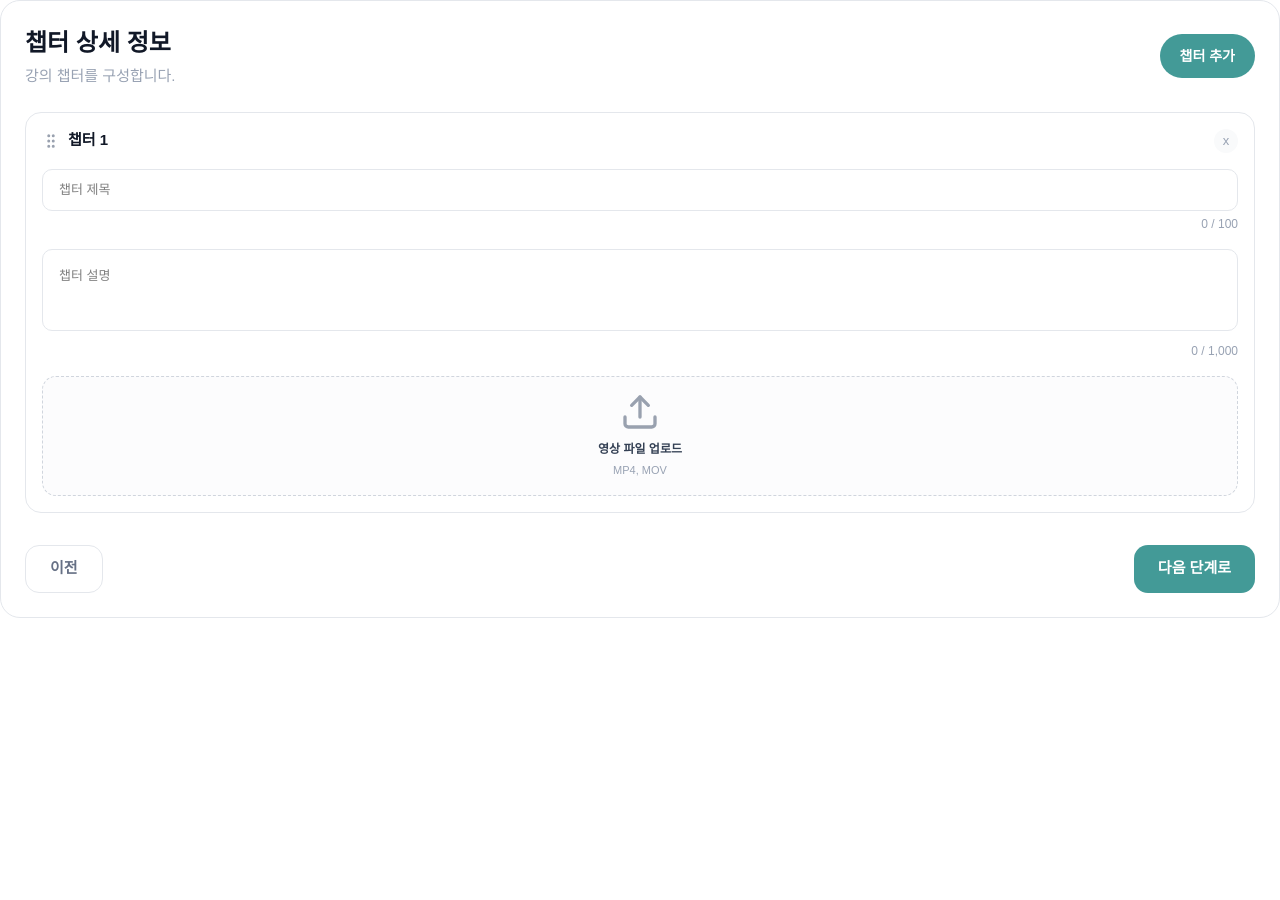
it: LectureChapterForm 컴포넌트 테스트 › 챕터를 추가하고 삭제하면 챕터 번호를 다시 정렬한다
What coordinates should you click on to do the following:
click the button "챕터 추가"
I would click on:
 (1207, 56)
Its box is [1160,34,1255,78].
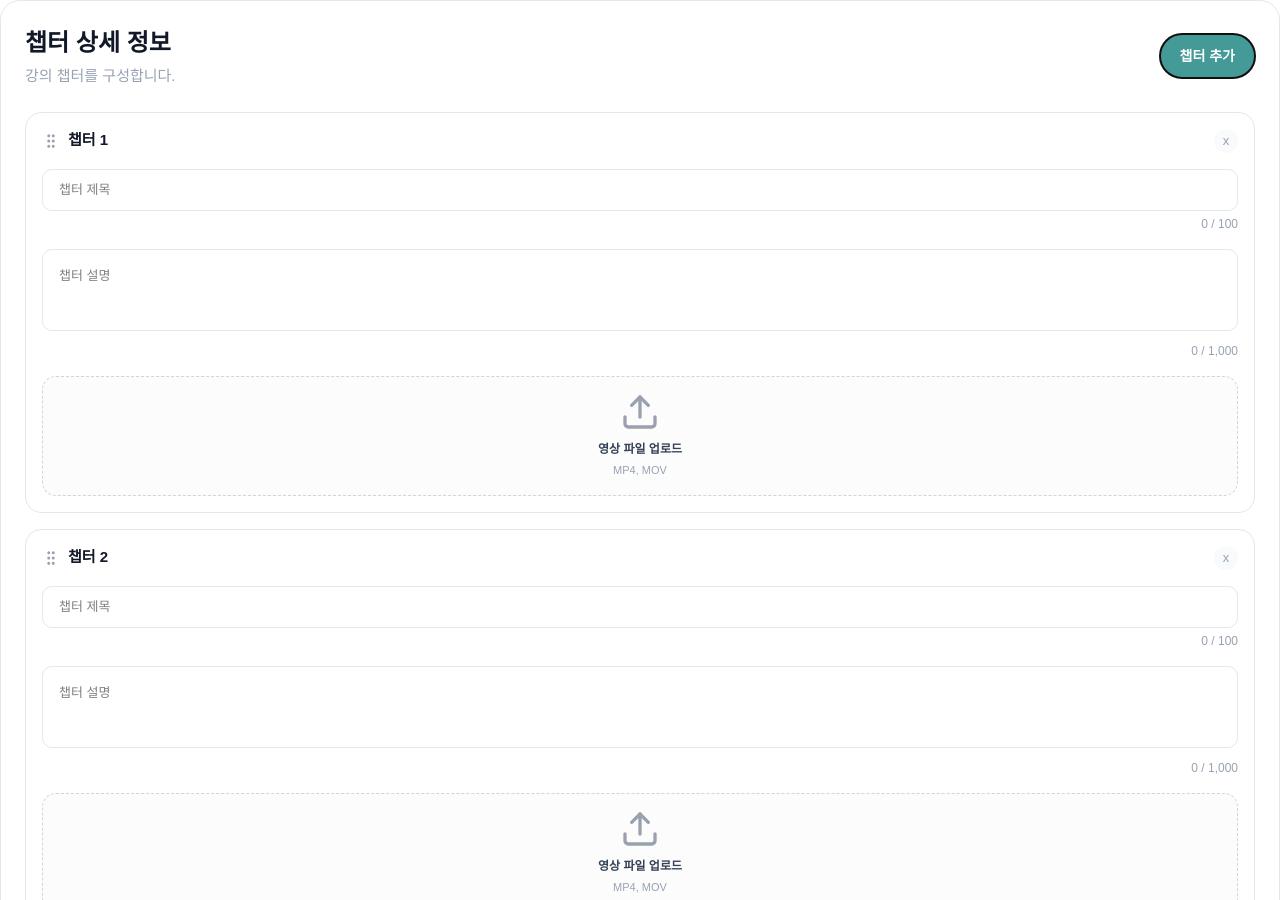
Check: the heading "챕터 1" is shown, box [68,129,108,152]
Check: the heading "챕터 2" is shown, box [68,546,108,569]
What coordinates should you click on to do the following:
click the button named "1번 챕터 삭제"
I would click on:
 (1226, 140)
Its box is [1214,128,1238,152].
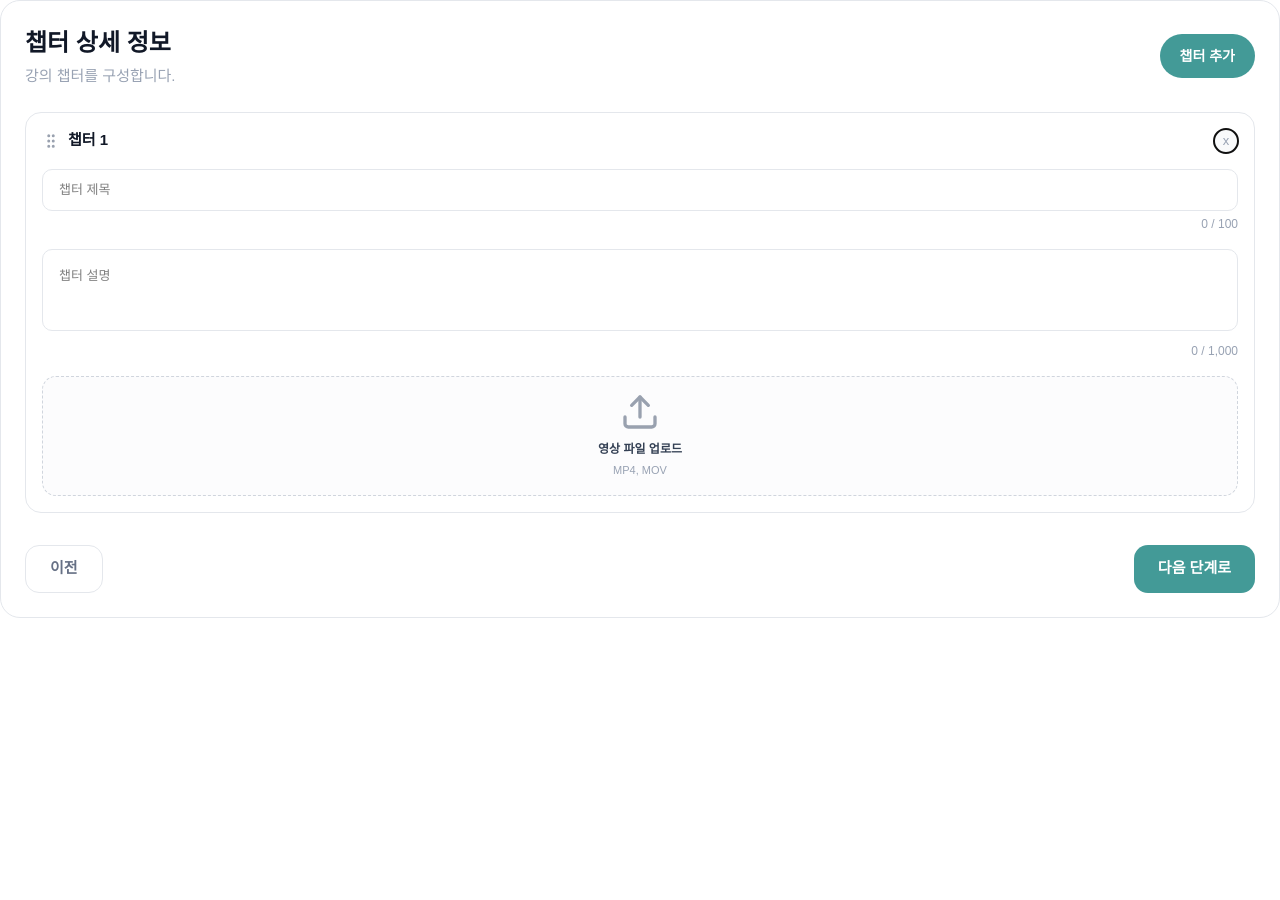
Check: the heading "챕터 1" is shown, box [68,129,108,152]
Check: the heading "챕터 2" is gone
